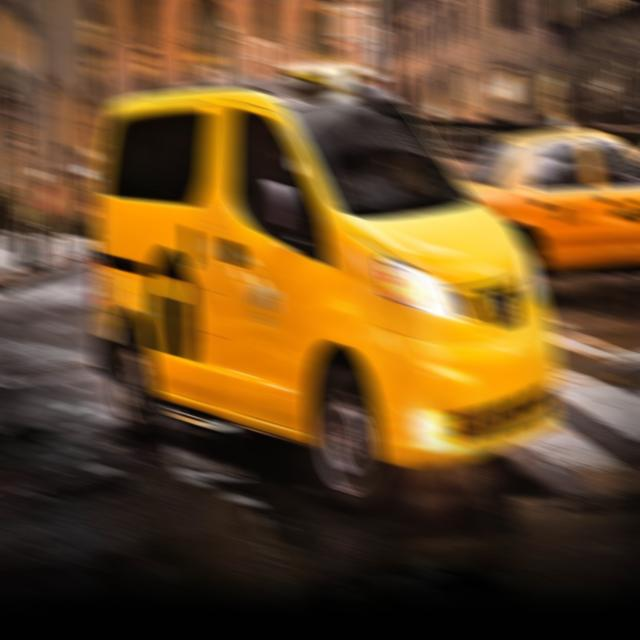Taxi: (79, 80, 569, 510)
